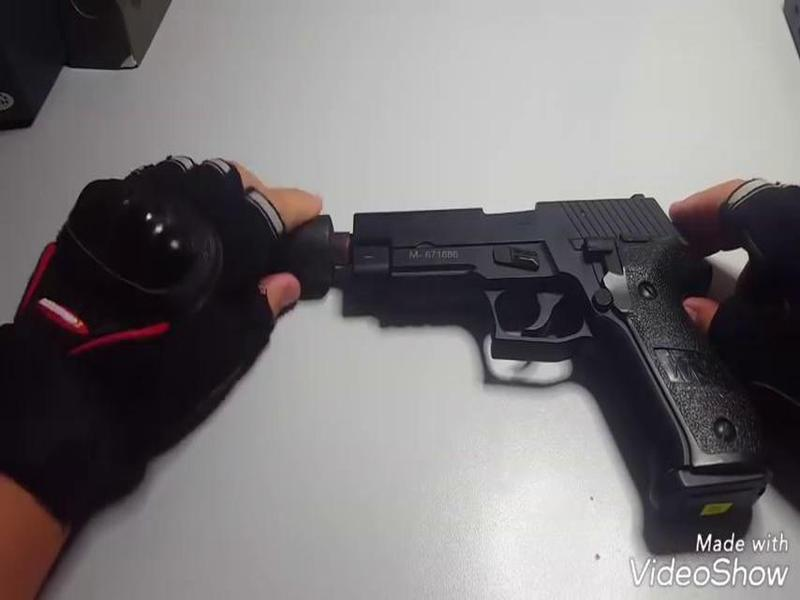Pistola: (347, 184, 779, 522)
